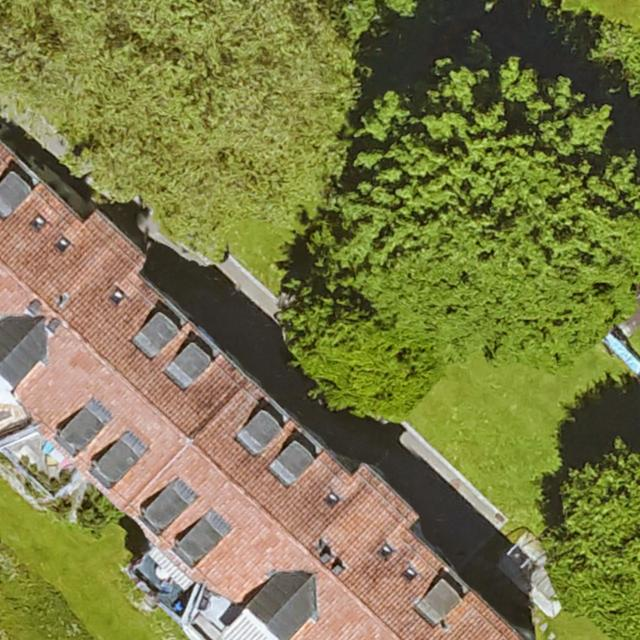tree: (324, 62, 638, 352), (0, 0, 360, 210), (284, 276, 440, 418), (549, 442, 639, 638)
